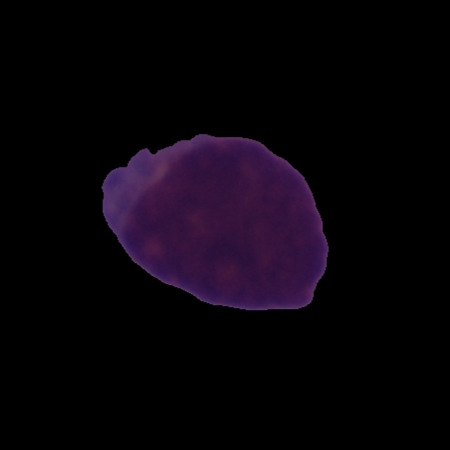ALL: (99, 130, 331, 312)
